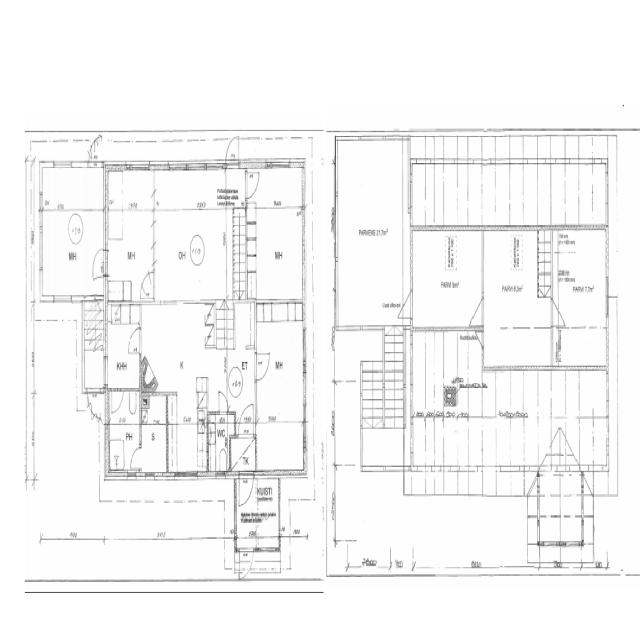door: (468, 292, 486, 333), (243, 165, 261, 202), (237, 544, 255, 581), (139, 265, 156, 303), (254, 349, 272, 384), (237, 402, 255, 437), (238, 470, 255, 507), (224, 134, 241, 169), (398, 289, 414, 325), (126, 324, 143, 356), (91, 244, 107, 276), (128, 443, 143, 475), (110, 386, 124, 416), (216, 389, 229, 418)
window: (300, 318, 308, 366), (127, 160, 151, 174), (145, 468, 158, 482)
zone: (334, 135, 409, 330), (150, 304, 212, 477), (153, 177, 229, 303), (482, 228, 554, 358), (39, 164, 106, 302), (255, 302, 306, 475), (411, 230, 485, 330), (247, 181, 304, 305), (106, 170, 155, 304), (417, 330, 488, 417), (153, 170, 219, 219), (106, 302, 141, 389), (108, 388, 141, 477), (140, 392, 168, 477), (333, 380, 360, 468), (207, 418, 228, 476)
